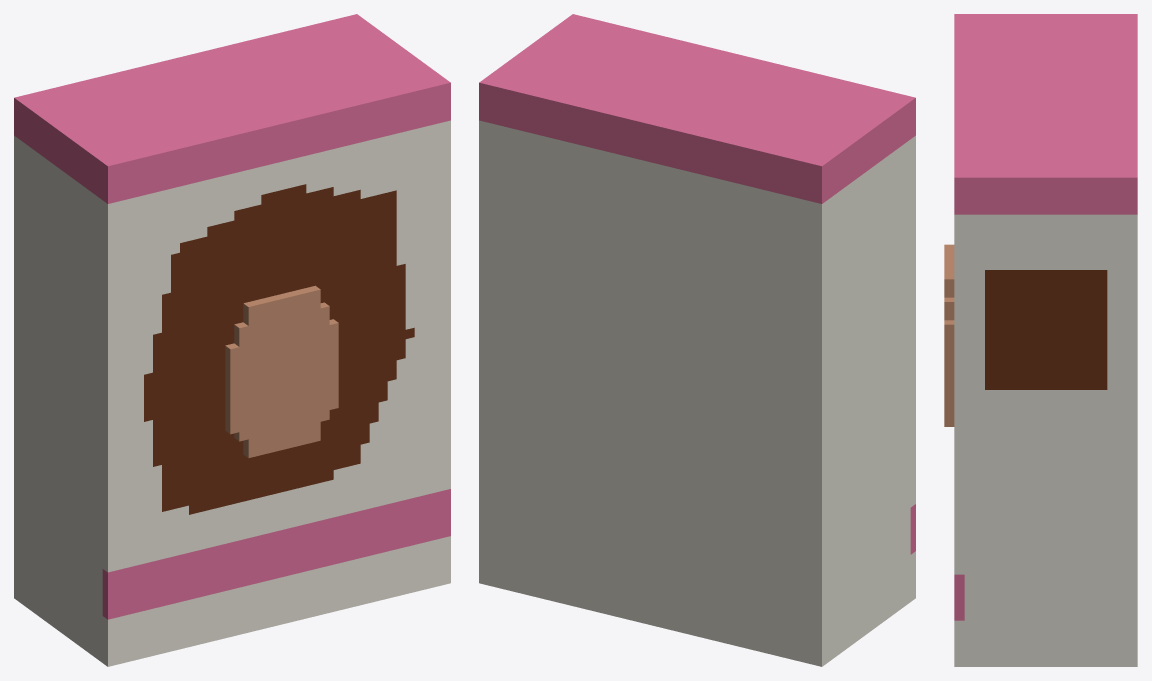
File: hair_dye_kit.glb
The picture shows the model from 3 angles, left to right: view 1: azimuth 30°, elevation 25°; view 2: azimuth 150°, elevation 25°; view 3: azimuth 270°, elevation 25°; orthographic projection. The views are drawn at different scales.
Visible parts, largest first — view 1: hair_dye_kit:compound; view 2: hair_dye_kit:compound; view 3: hair_dye_kit:compound.
Boxes of the visible parts, bbox=[...] form: hair_dye_kit:compound: bbox=[14, 14, 450, 666]; hair_dye_kit:compound: bbox=[479, 14, 915, 666]; hair_dye_kit:compound: bbox=[944, 14, 1137, 666].
Size of the model in its own units: 0.152 by 0.212 by 0.076.
